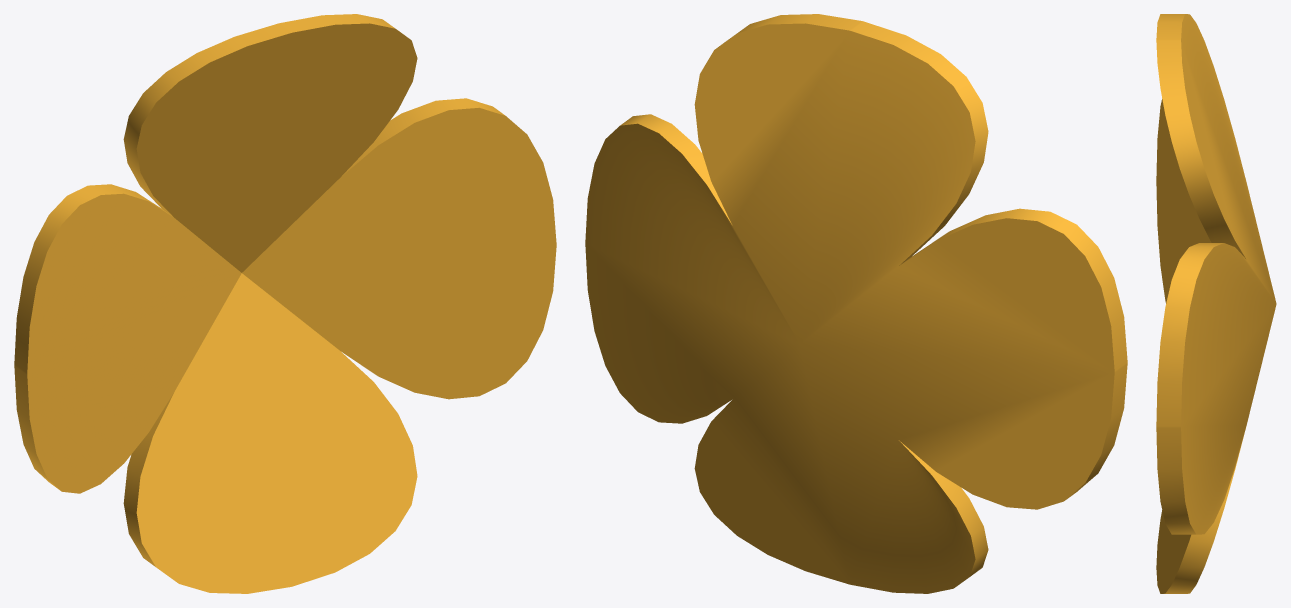
The model's file is Clever C Multi.fbx.
3 views of the same model, side by side, from view 1: azimuth 30°, elevation 25°; view 2: azimuth 150°, elevation 25°; view 3: azimuth 270°, elevation 25° (orthographic). The views are drawn at different scales.
Visible parts, largest first — view 1: Clever C; view 2: Clever C; view 3: Clever C.
Part boxes in pixels (box(x1,y1,x2,y2)): Clever C: box(14, 14, 556, 593); Clever C: box(585, 14, 1127, 593); Clever C: box(1156, 14, 1276, 593).
Bounding box in the file's own units: 0.9124 × 0.9124 × 0.1883.
